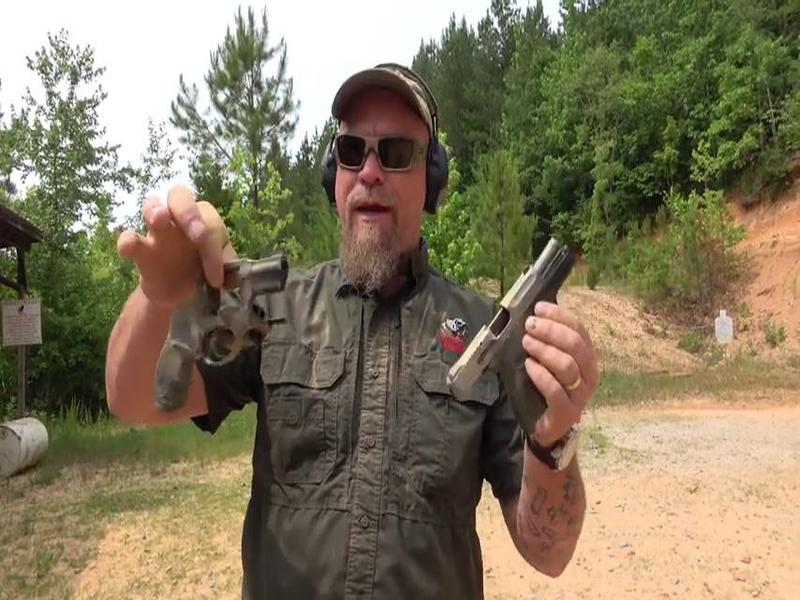Pistola: (429, 244, 617, 457)
Revolver: (123, 248, 303, 430)
